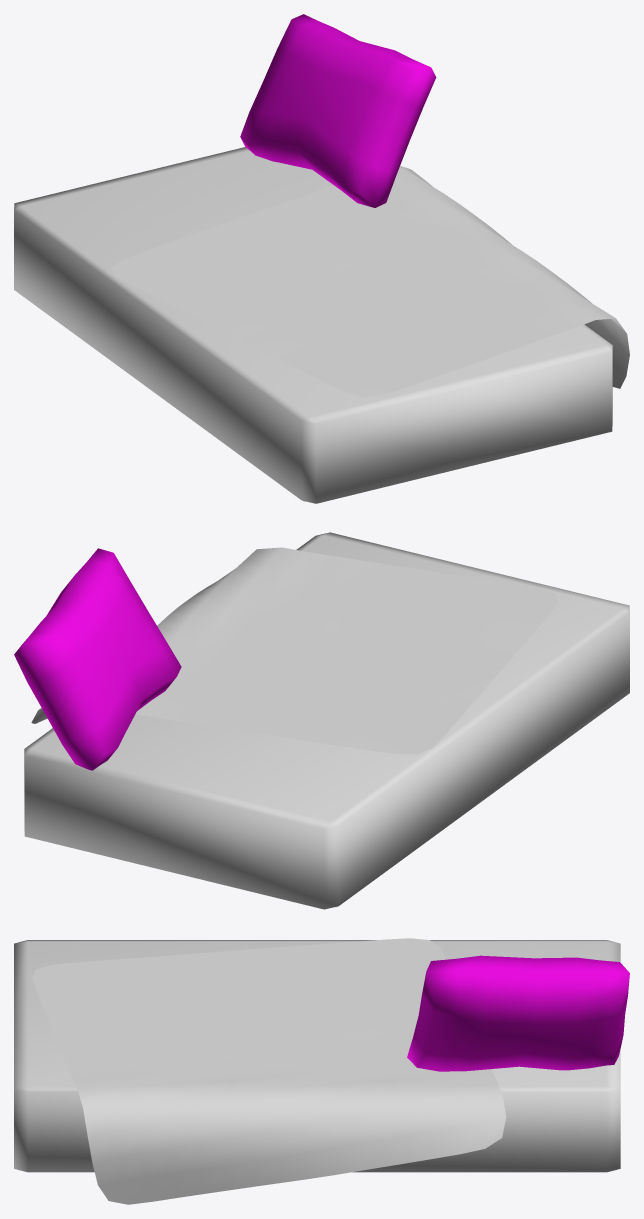
Rendered from NurseryMattress.fbx.
3 renders of one model, top to bottom at view 1: azimuth 30°, elevation 25°; view 2: azimuth 150°, elevation 25°; view 3: azimuth 270°, elevation 25°, orthographic.
Parts seen in each view (by area): view 1: Bed; view 2: Bed; view 3: Bed.
Boxes of the visible parts, x1,y1,x2,y2 form: Bed: (14,14,629,503); Bed: (14,532,629,909); Bed: (14,938,629,1204).
Bounding box in the file's own units: 154 × 89.1 × 226.
